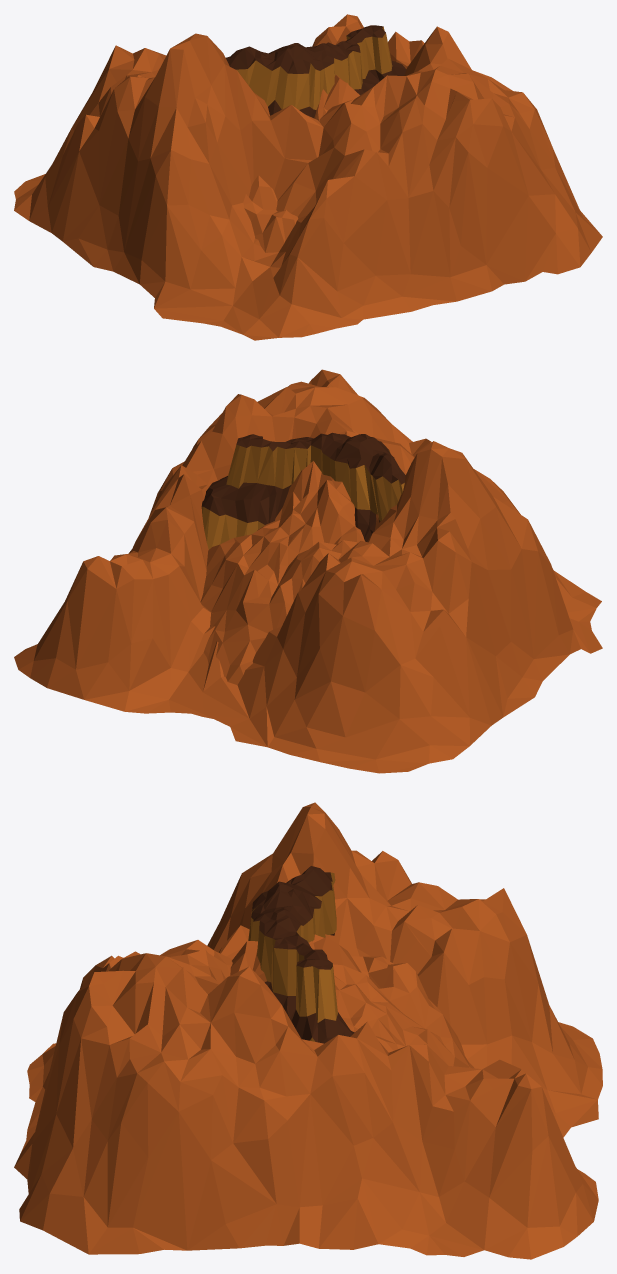
Rendered from desert-v1.glb.
3 renders of one model, top to bottom at view 1: azimuth 30°, elevation 25°; view 2: azimuth 150°, elevation 25°; view 3: azimuth 270°, elevation 25°, orthographic. The views are drawn at different scales.
Visible parts, largest first — view 1: mesa2, mesa3, mesa1; view 2: mesa2, mesa1, mesa3; view 3: mesa2, mesa3, mesa1.
Part boxes in pixels (x1,y1,x2,y2): mesa2: [14, 14, 602, 340]; mesa3: [226, 25, 406, 118]; mesa1: [243, 75, 359, 252]; mesa2: [14, 369, 602, 773]; mesa1: [192, 461, 364, 718]; mesa3: [201, 432, 405, 549]; mesa2: [14, 802, 602, 1259]; mesa3: [248, 866, 354, 1043]; mesa1: [230, 934, 474, 1068].
Bounding box in the file's own units: 40.14 × 19.87 × 40.23.
